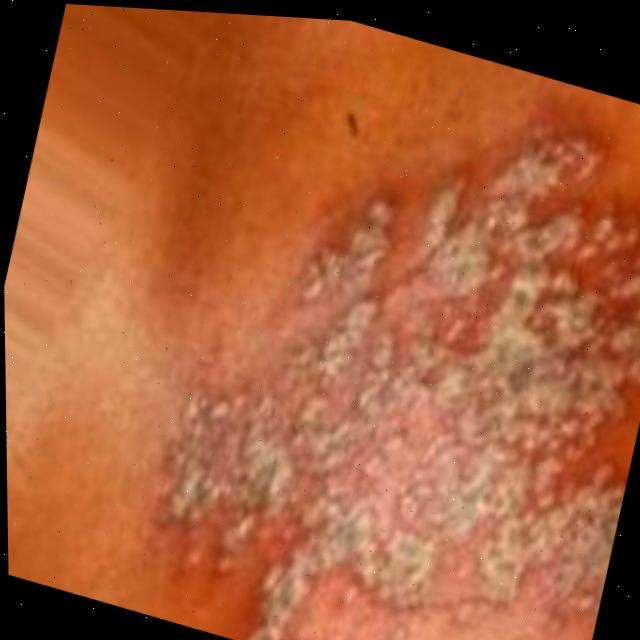Shingles: (129, 44, 640, 640)
